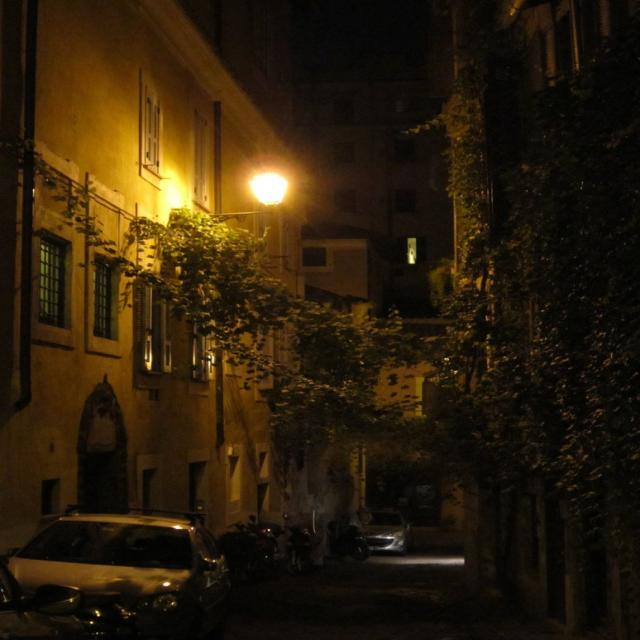Motorbike: (0, 575, 197, 639)
